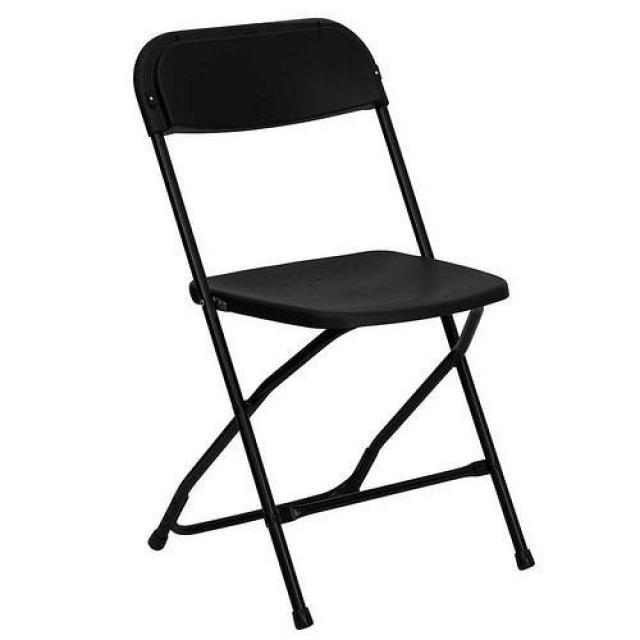chair: (133, 19, 536, 632)
